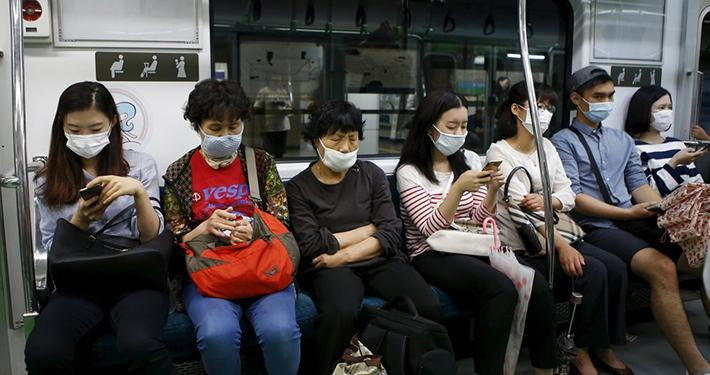nose: (339, 148, 349, 153)
